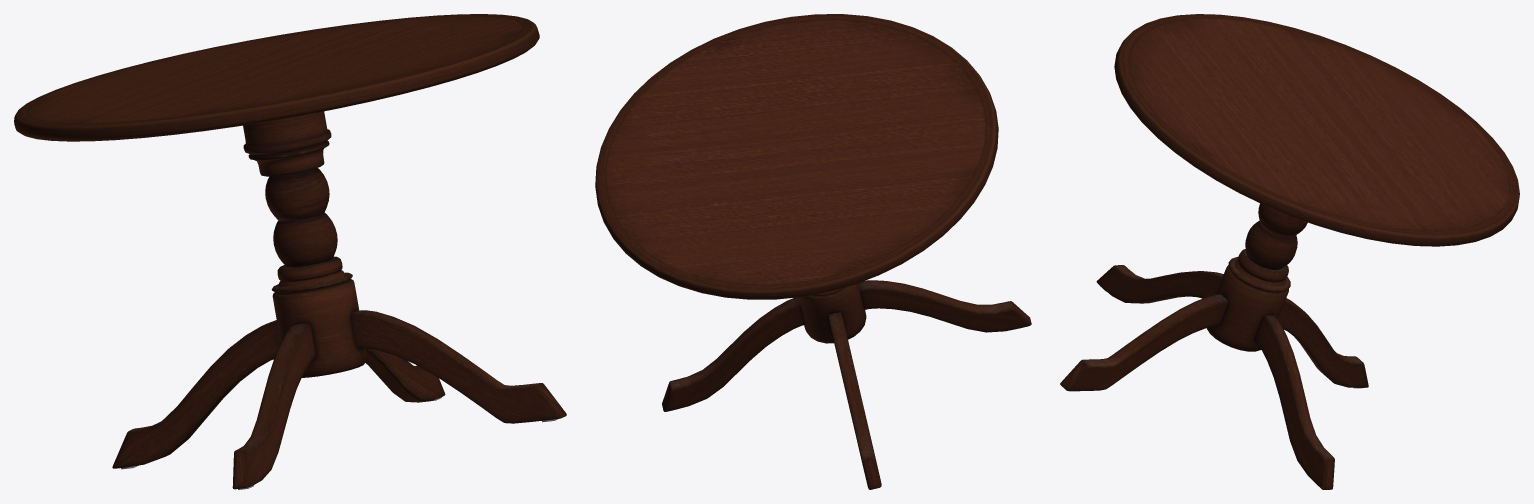
Rendered from RoundTableScene.gltf.
The picture shows the model from 3 angles, left to right: view 1: azimuth 30°, elevation 25°; view 2: azimuth 150°, elevation 25°; view 3: azimuth 270°, elevation 25°; orthographic projection. The views are drawn at different scales.
Visible parts, largest first — view 1: round_wooden_table_01; view 2: round_wooden_table_01; view 3: round_wooden_table_01.
Boxes of the visible parts, left/top/right/bottom form: round_wooden_table_01: left=14, top=14, right=566, bottom=489; round_wooden_table_01: left=595, top=14, right=1031, bottom=489; round_wooden_table_01: left=1060, top=14, right=1519, bottom=489.
Size of the model in its own units: 1.4 by 1.35 by 1.5.
1 material, 1 textured.
